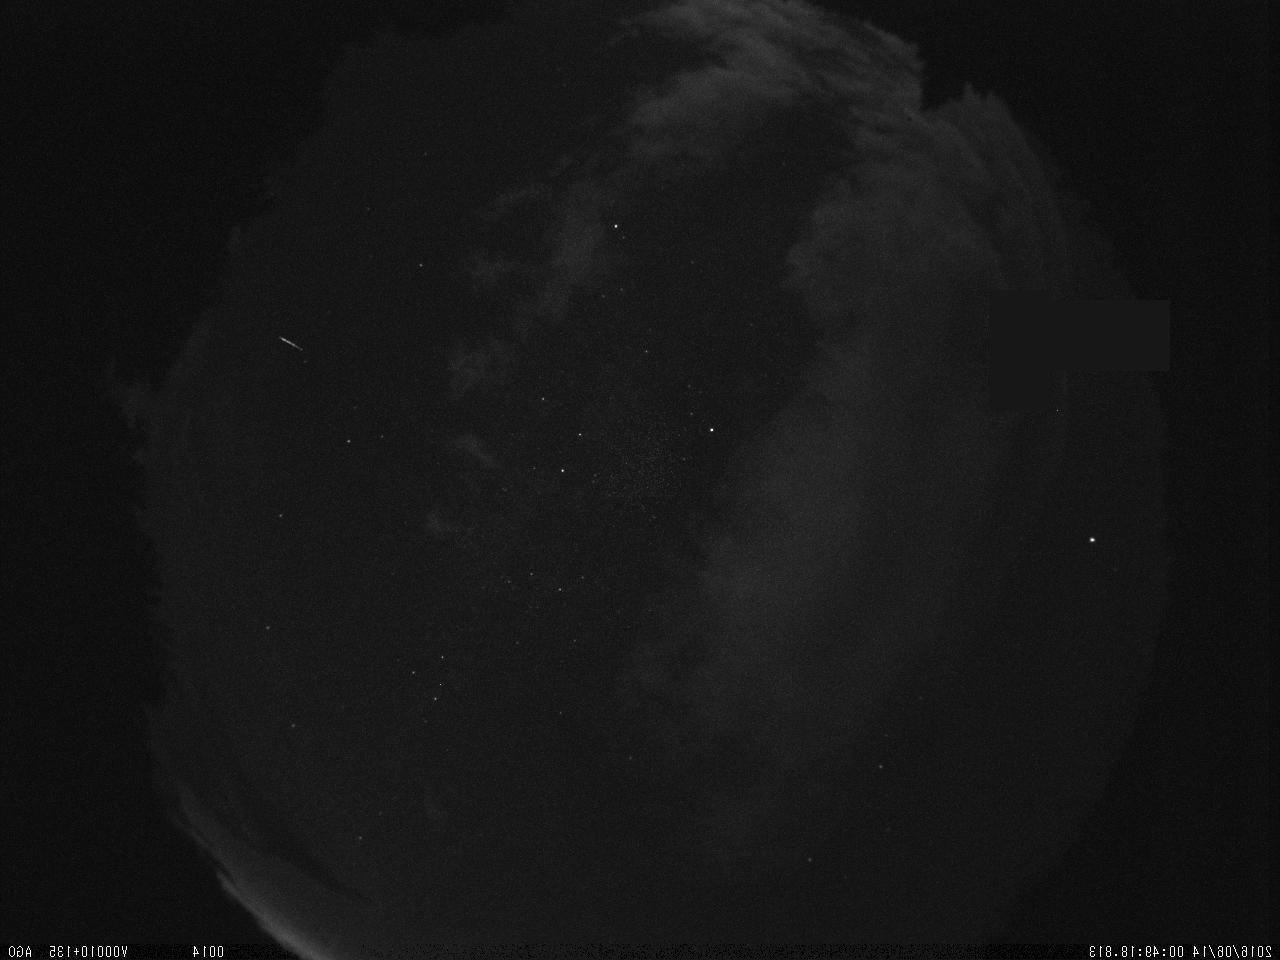meteor: (264, 327, 309, 357)
